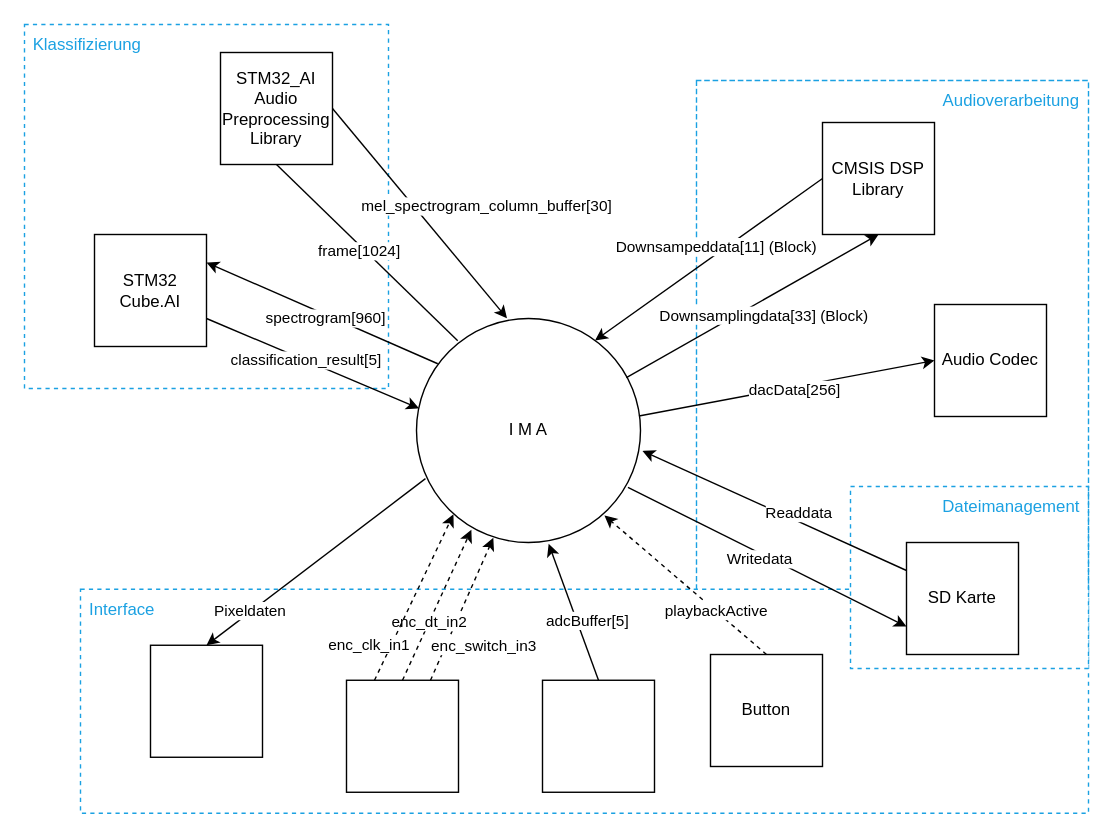
This 1113x839 diagram has some shape labels left out. The centre of each missing label's shape, as x and y in pixels:
Encoder: point 401,735
Fader: point 597,735
SD1306 Display Driver: point 205,700
